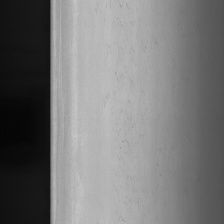silk_spot: (90, 0, 150, 219)
